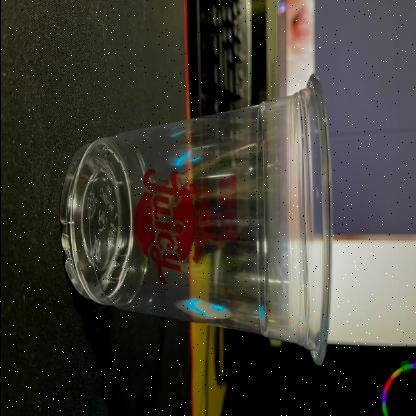Others: (57, 70, 333, 368)
